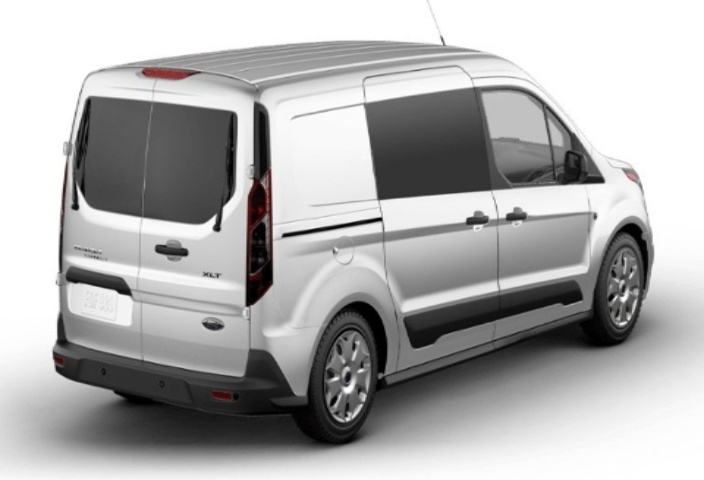van: (38, 34, 668, 448)
